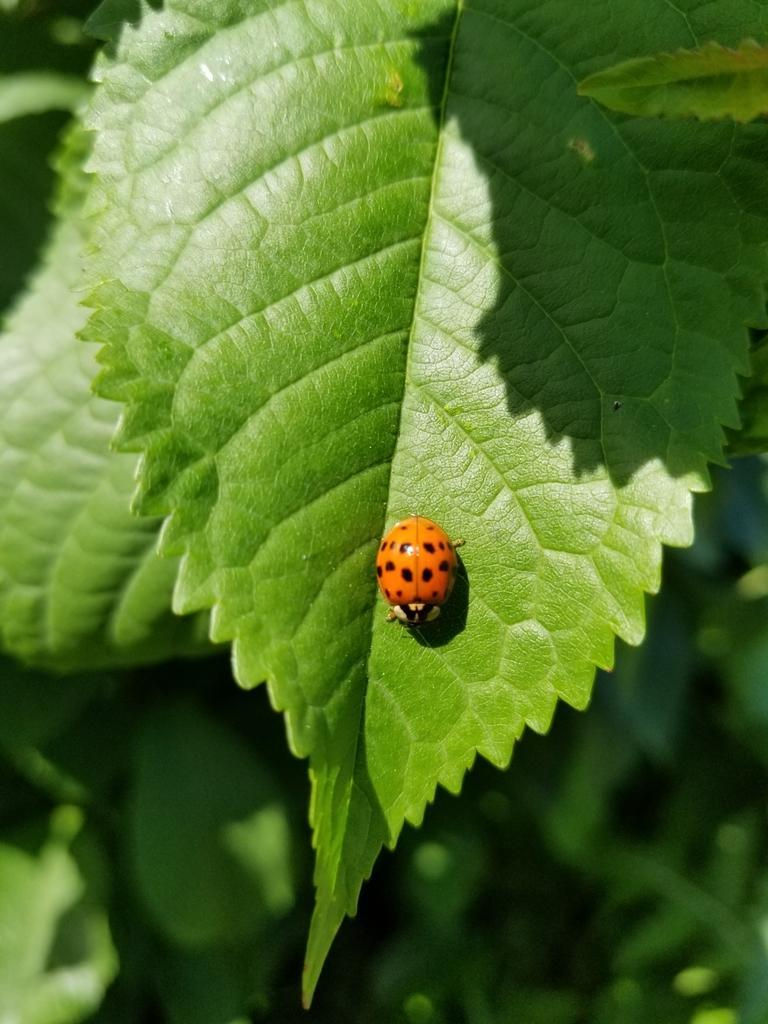ladybug: (376, 516, 463, 628)
